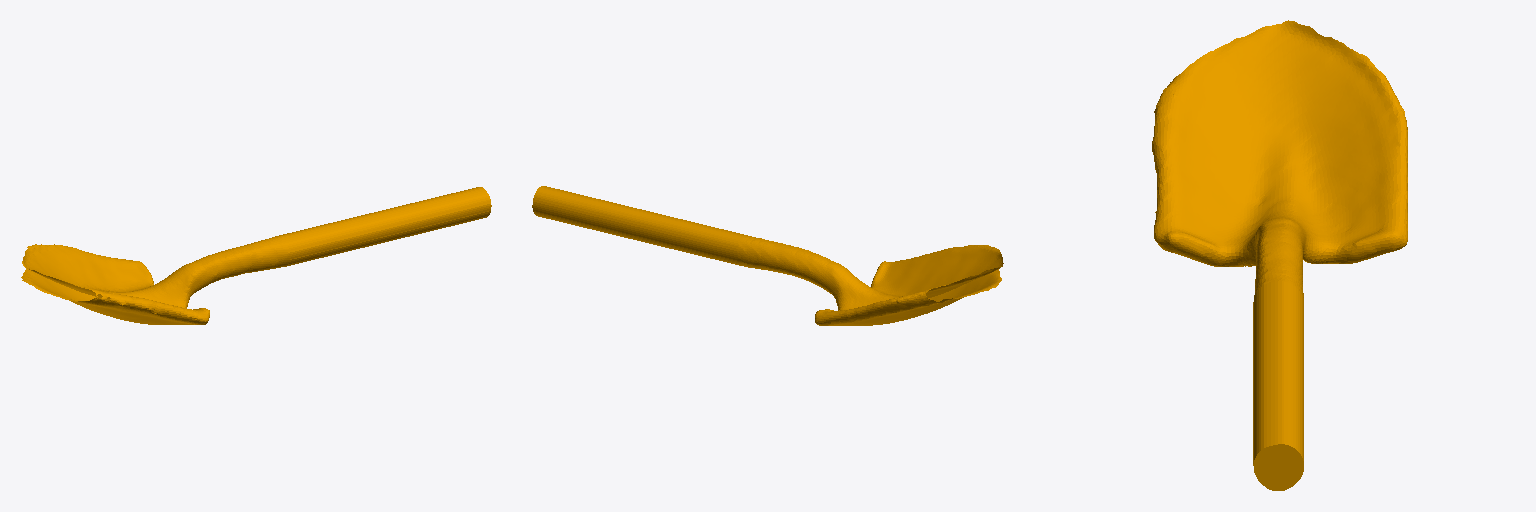
The robot description file, URDF, robot "shovel":
<robot name="shovel">
  <link name="shovel">
    <inertial>
      <origin xyz="0 0 0.0145"/>
      <mass value="0.1" />
      <inertia  ixx="0.0001" ixy="0.0"  ixz="0.0"  iyy="0.0001"  iyz="0.0"  izz="0.0001" />
    </inertial>
    <visual>
      <origin xyz="0 0 0.0145"/>
      <geometry>        
     <mesh filename="shovel.dae" scale="1 1 1"/>
    </geometry>
    </visual>
    <collision>
      <origin xyz="0 0 0.0145"/>
      <geometry>
        <box size="0.029 0.029 0.029"/>
      </geometry>
    </collision>
  </link>
  <gazebo reference="shovel">
    <material>Gazebo/Blue</material>
  </gazebo>
</robot>

--- Facts derived from the render (not from the file) ---
The picture shows the robot from 3 angles, left to right: view 1: azimuth 30°, elevation 25°; view 2: azimuth 150°, elevation 25°; view 3: azimuth 270°, elevation 25°; orthographic projection.
Robot: shovel — 1 links, 0 joints (none); root link shovel; default pose: every joint at zero.
Links seen in each view (by area): view 1: shovel; view 2: shovel; view 3: shovel.
Link boxes in pixels (box(x1,y1,x2,y2)): shovel: box(21, 187, 491, 324); shovel: box(532, 186, 1003, 325); shovel: box(1152, 20, 1407, 490).
Size in the robot's own frame: 0.9906 by 0.2923 by 0.1678 metres.
1 mesh visuals loaded from 1 distinct referenced files (1 Collada DAE).